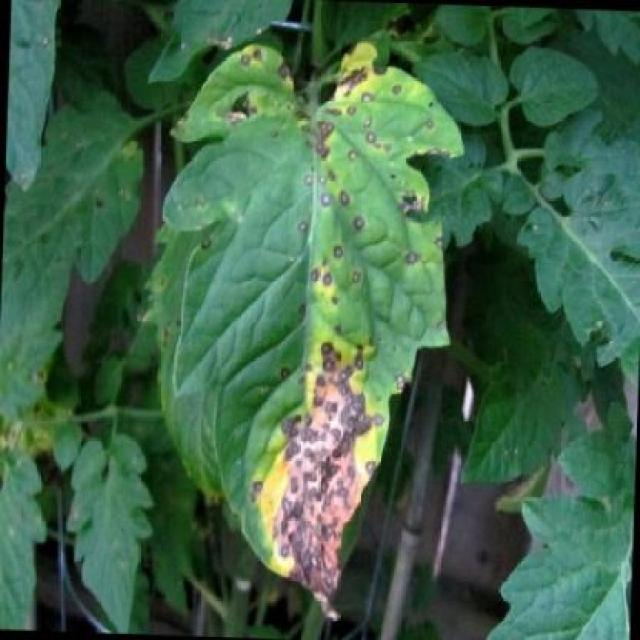Septoria leaf spot: (136, 17, 471, 623)
